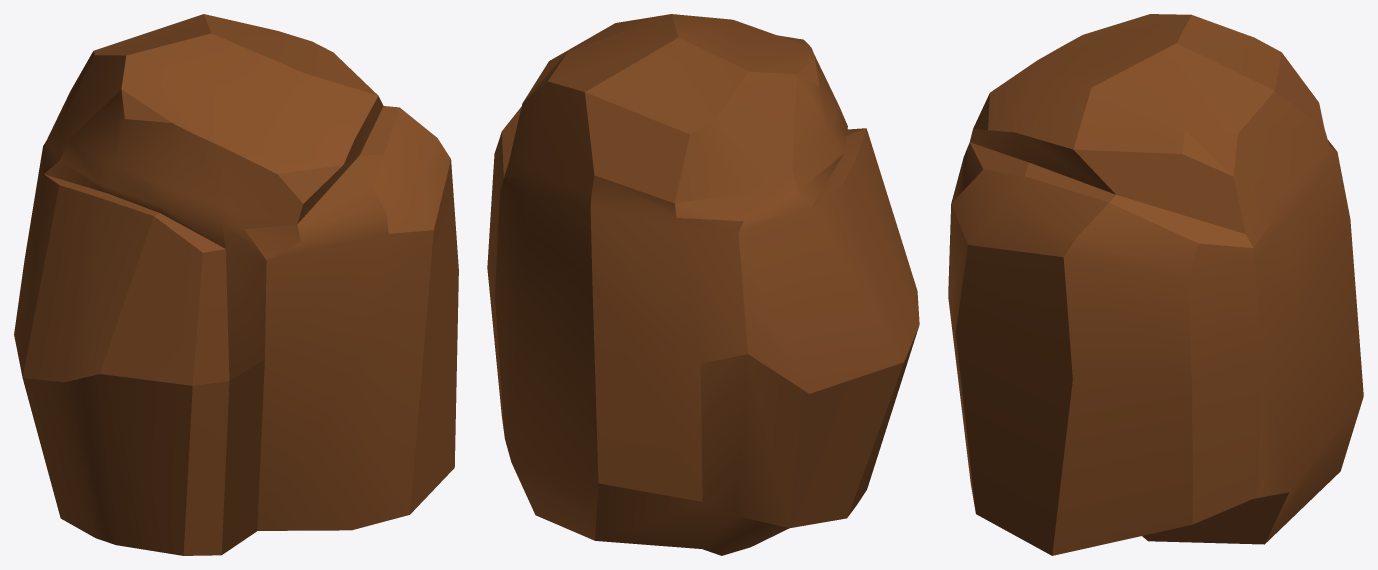
Rendered from Rock_3-transformed.glb.
3 renders of one model, left to right at view 1: azimuth 30°, elevation 25°; view 2: azimuth 150°, elevation 25°; view 3: azimuth 270°, elevation 25°, orthographic. The views are drawn at different scales.
Visible parts, largest first — view 1: Rock_3; view 2: Rock_3; view 3: Rock_3.
Part boxes in pixels (x1=…): Rock_3: x1=14, y1=14, x2=458, y2=555; Rock_3: x1=487, y1=14, x2=919, y2=555; Rock_3: x1=948, y1=14, x2=1363, y2=555.
Size of the model in its own units: 3.3 by 3.83 by 3.01.
Materials: 1 (1 with a texture image).
